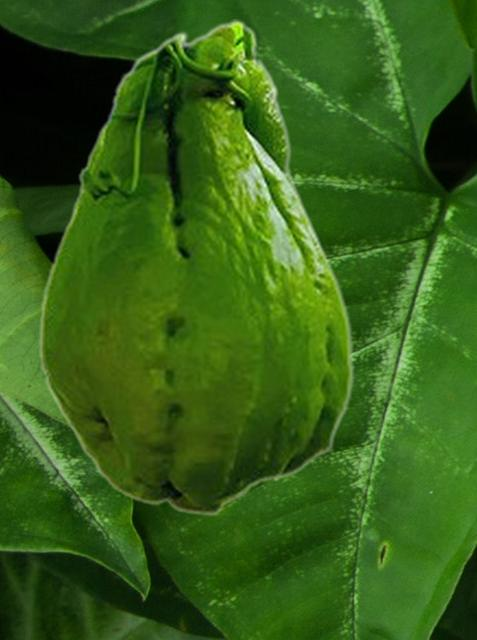sayote: (38, 19, 354, 516)
